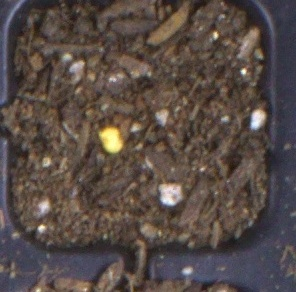chilli seed: (97, 126, 125, 154)
